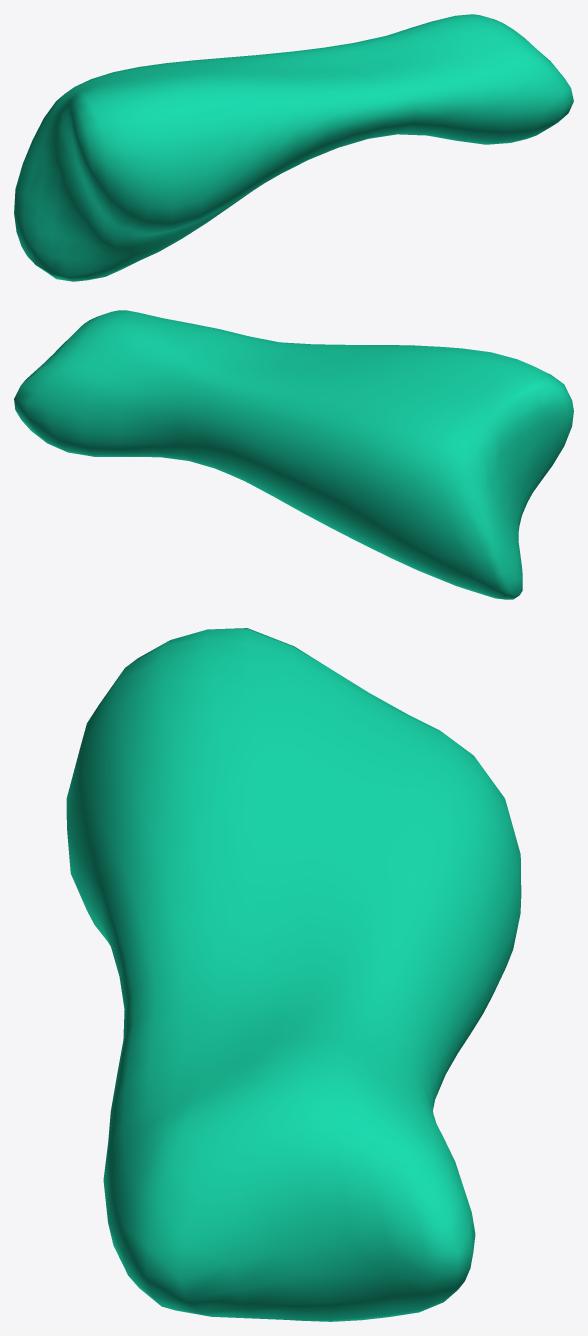
File: antebrazo.obj
3 views of the same model, one above another, from view 1: azimuth 30°, elevation 25°; view 2: azimuth 150°, elevation 25°; view 3: azimuth 270°, elevation 25° (orthographic). The views are drawn at different scales.
Visible parts, largest first — view 1: Beta_Surface.002_Mesh.001; view 2: Beta_Surface.002_Mesh.001; view 3: Beta_Surface.002_Mesh.001.
Boxes of the visible parts, <box> form: Beta_Surface.002_Mesh.001: <box>14,14,573,281</box>; Beta_Surface.002_Mesh.001: <box>14,310,573,599</box>; Beta_Surface.002_Mesh.001: <box>66,628,521,1321</box>.
Bounding box in the file's own units: 0.2723 × 0.1056 × 0.1091.
